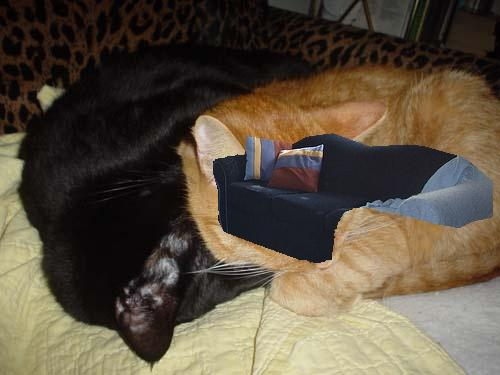tampered: (214, 134, 493, 263)
